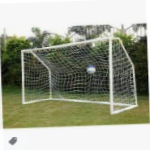goals: (20, 34, 139, 116)
